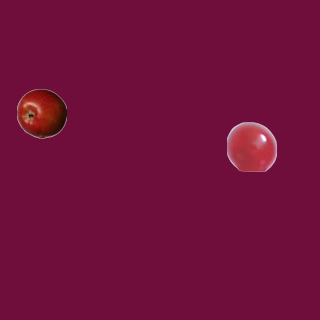Apple Braeburn: (16, 88, 66, 138)
Redcurrant: (226, 121, 276, 171)
